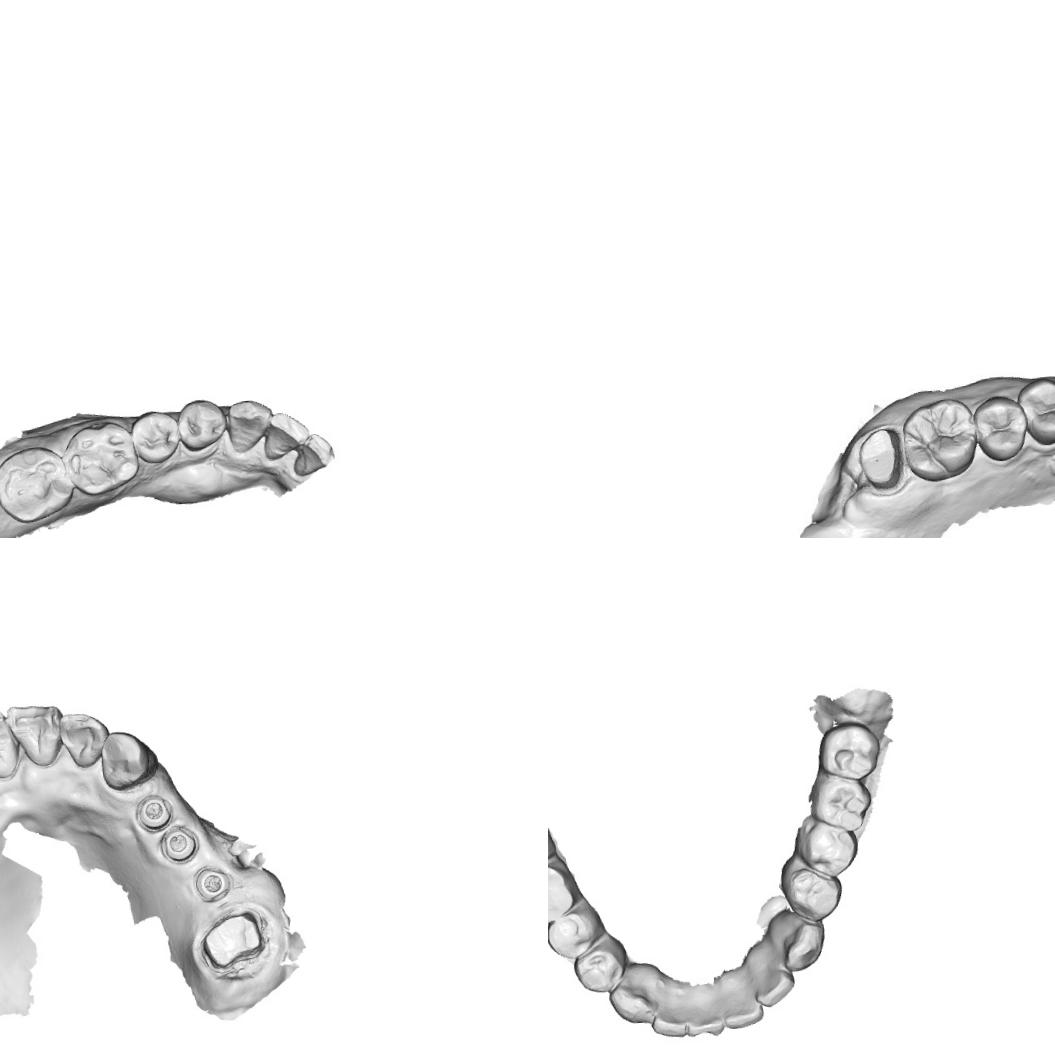canine: (767, 906, 829, 978), (96, 726, 161, 794), (604, 966, 662, 1028), (222, 396, 274, 457)
crown: (195, 905, 268, 975), (852, 423, 910, 500)
implant: (132, 791, 175, 833), (158, 823, 200, 864), (192, 864, 232, 904)
incisor: (4, 700, 66, 770), (56, 708, 112, 770), (259, 410, 313, 461), (288, 430, 336, 480), (682, 992, 727, 1040), (752, 964, 798, 1010), (720, 988, 766, 1033), (649, 998, 691, 1041), (0, 704, 22, 781)
molar: (894, 394, 980, 486), (64, 415, 140, 498), (0, 443, 72, 528), (808, 770, 872, 835), (814, 720, 879, 782), (548, 858, 581, 927)
premolar: (792, 814, 860, 880), (972, 393, 1030, 464), (780, 862, 844, 925), (569, 932, 631, 996), (127, 405, 184, 466), (548, 906, 603, 964), (176, 395, 226, 455), (1017, 377, 1055, 447)
